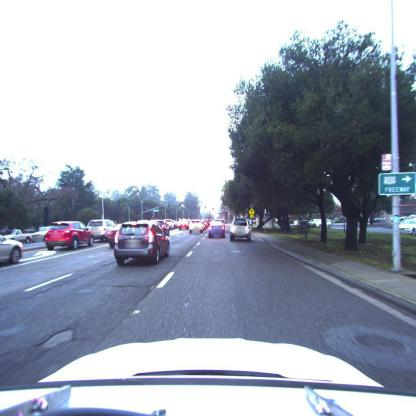car: (113, 222, 172, 266), (45, 222, 94, 251), (0, 234, 23, 266), (88, 219, 118, 242), (229, 217, 253, 242), (9, 230, 46, 245), (400, 216, 416, 235), (208, 222, 225, 238), (190, 222, 203, 233)
sign: (378, 173, 416, 196)
